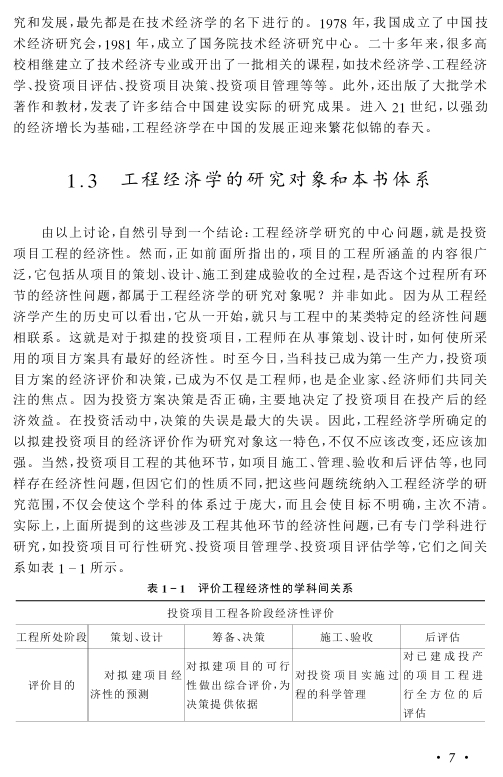table: (15, 600, 485, 722)
